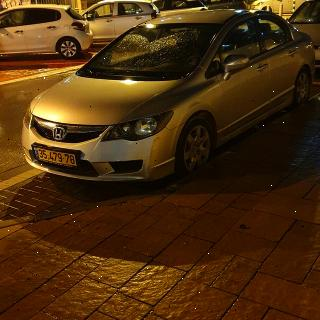LicensePlate: (35, 147, 79, 166)
